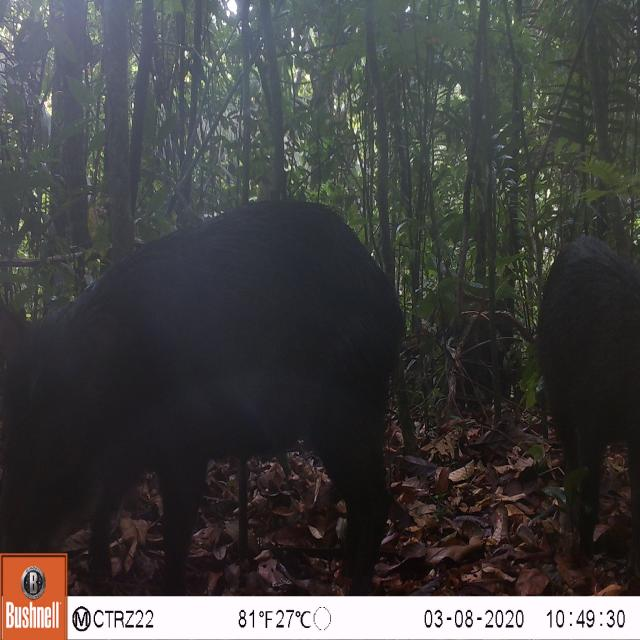White-lipped Peccary: (0, 189, 404, 595), (521, 229, 640, 559)
